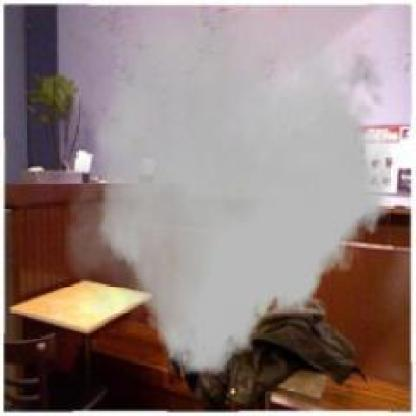Smoke: (56, 13, 395, 375)
